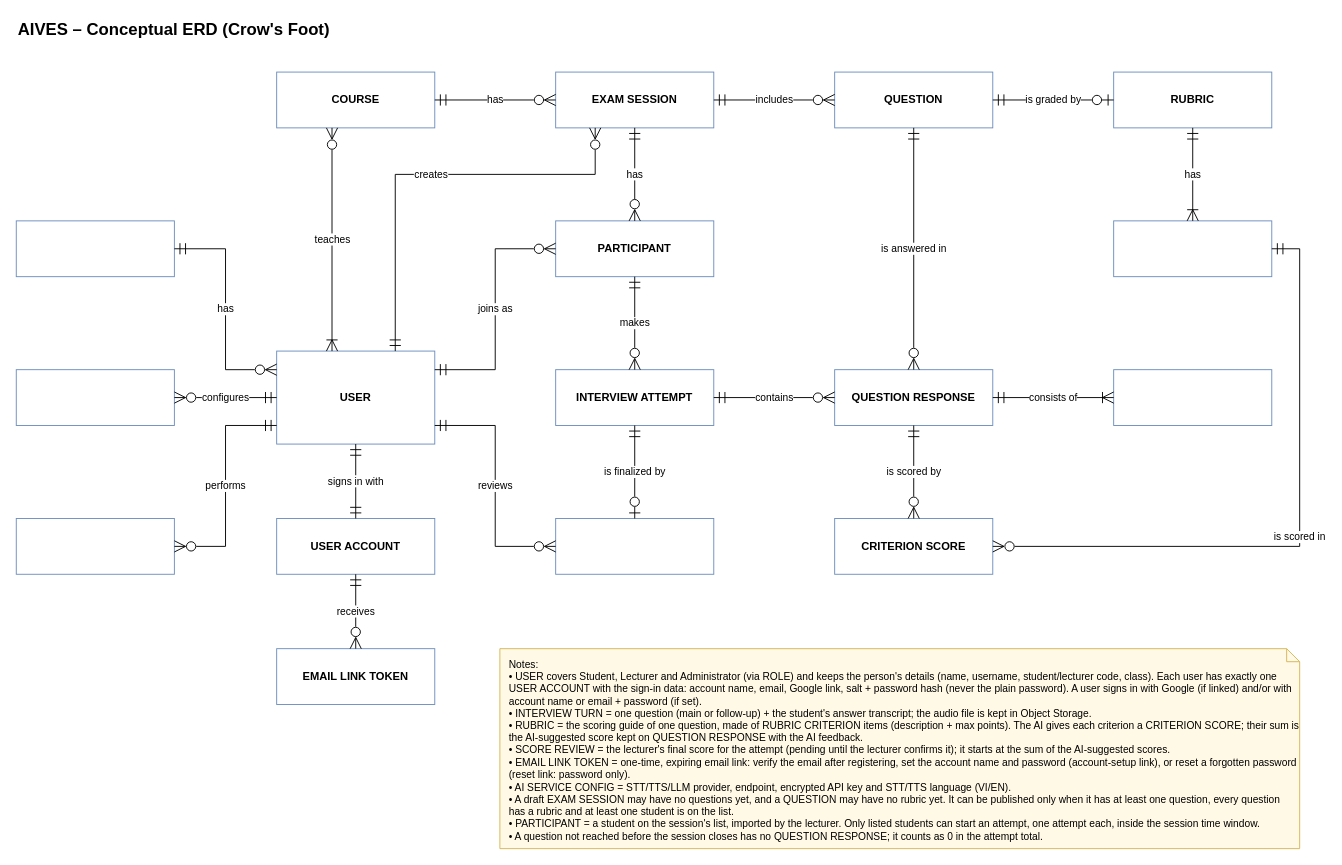
The diagram is 1342 pixels wide and 865 high, and some of its shapes have lost their labels. Here are the shapes that lost their labels. From the top down, the centre of each, then its label:
At point 94,248: "ROLE".
At point 1192,248: "RUBRIC CRITERION".
At point 94,397: "AI SERVICE CONFIG".
At point 1192,397: "INTERVIEW TURN".
At point 94,546: "AUDIT LOG".
At point 634,546: "SCORE REVIEW".
